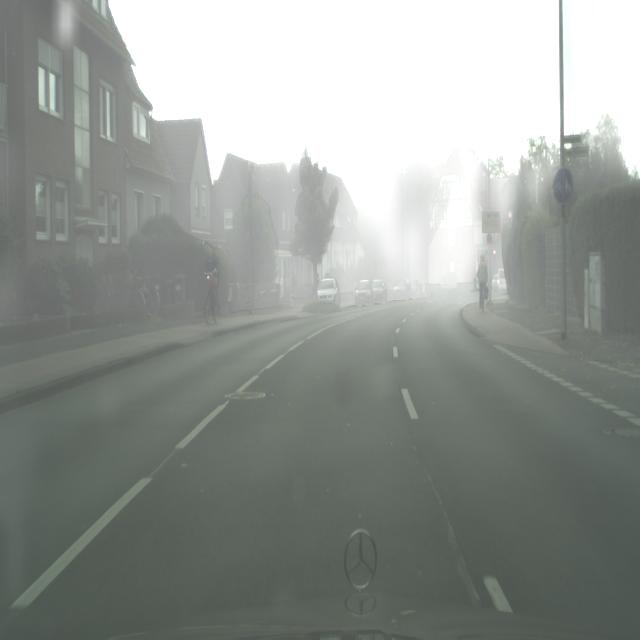car: (205, 281, 218, 326)
person: (204, 243, 219, 319), (477, 254, 488, 312)
truck: (316, 277, 340, 311), (491, 268, 508, 302), (392, 279, 414, 301), (354, 279, 371, 306), (372, 279, 388, 304)
